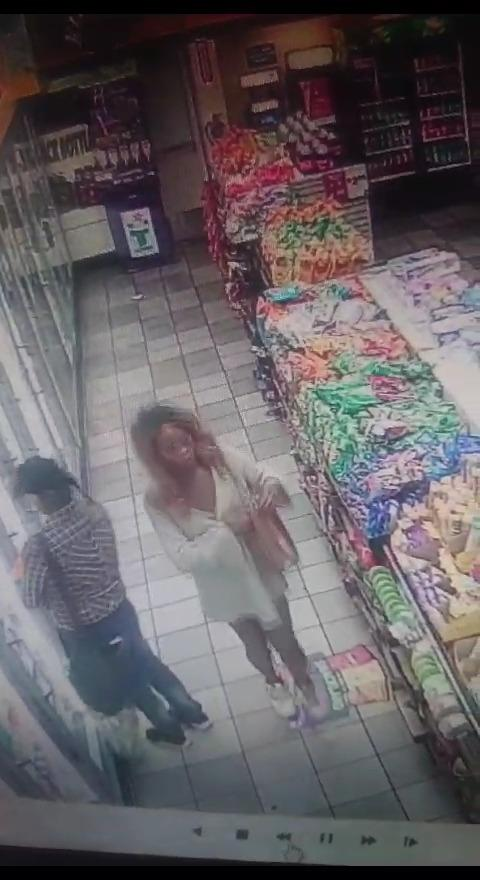Normal: (22, 460, 209, 787)
shoplifting: (128, 399, 304, 720)
